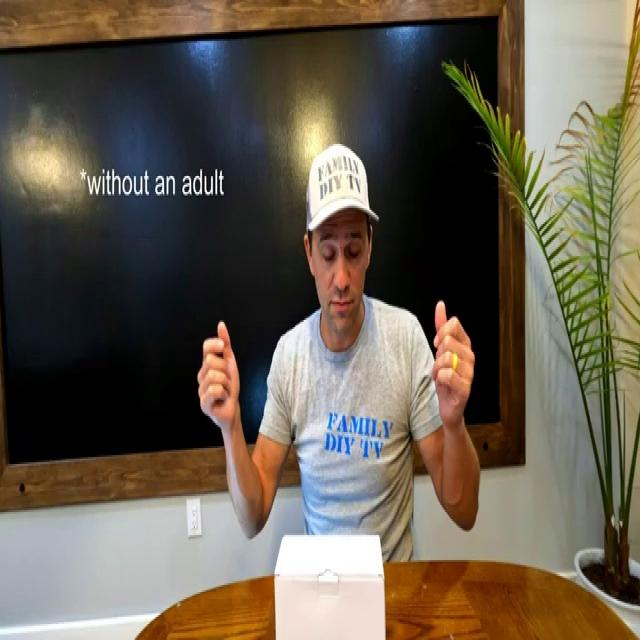adult: (206, 142, 478, 616)
